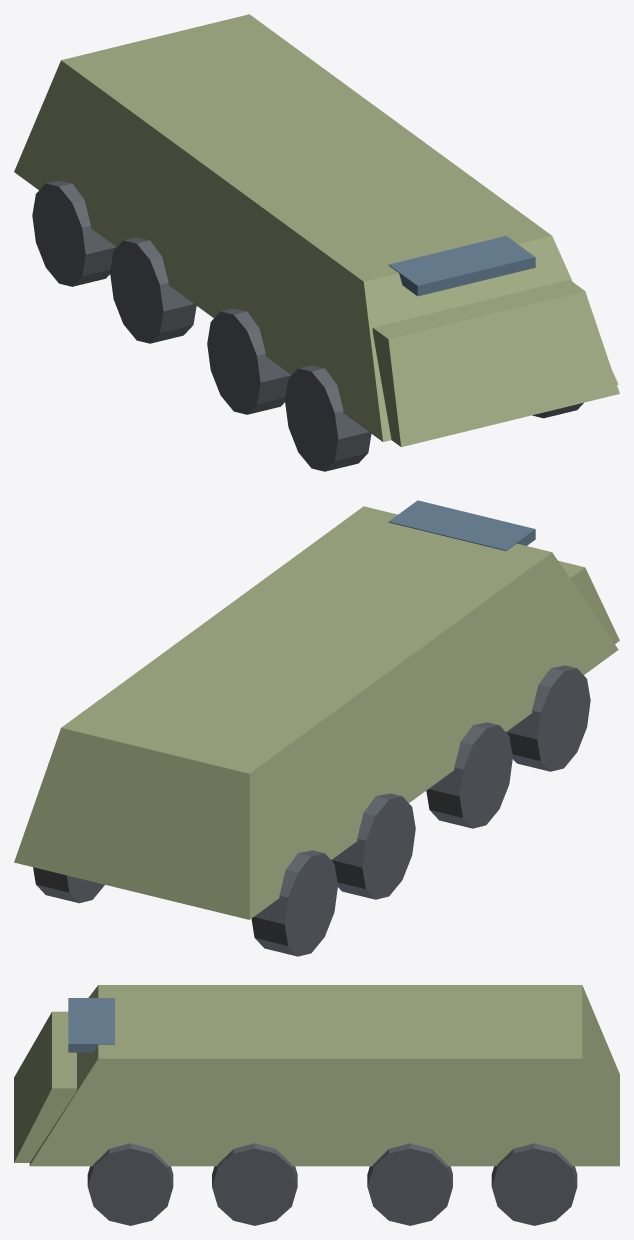
The model's file is synth_wheeled_carrier.glb.
The picture shows the model from 3 angles, top to bottom: view 1: azimuth 30°, elevation 25°; view 2: azimuth 150°, elevation 25°; view 3: azimuth 270°, elevation 25°; orthographic projection. The views are drawn at different scales.
Size of the model in its own units: 3 by 2.21 by 7.8.
